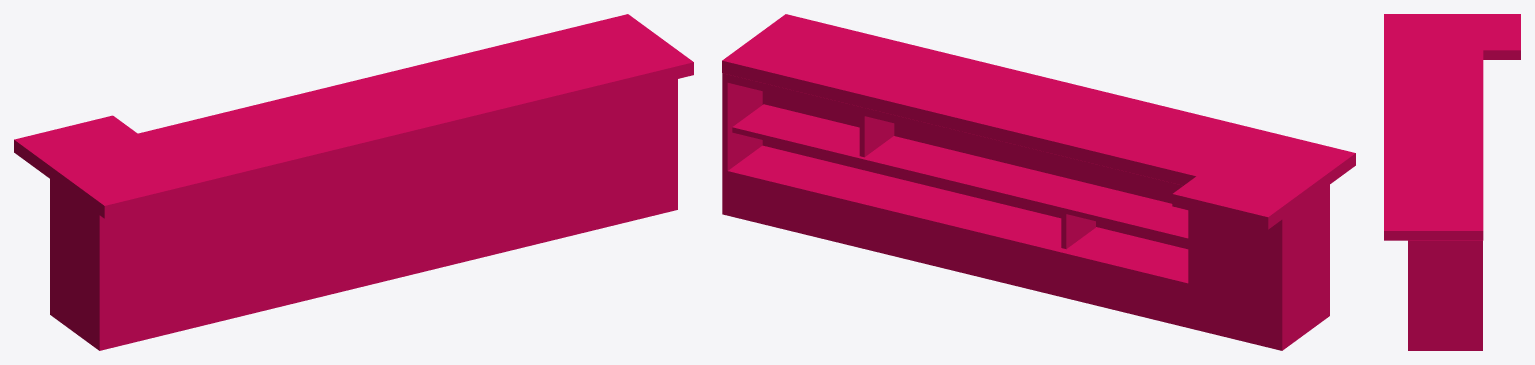
Rendered from Shop_Counter_02_Lod0.fbx.
The picture shows the model from 3 angles, left to right: view 1: azimuth 30°, elevation 25°; view 2: azimuth 150°, elevation 25°; view 3: azimuth 270°, elevation 25°; orthographic projection. The views are drawn at different scales.
Parts seen in each view (by area): view 1: Shop_Counter_02_Lod0; view 2: Shop_Counter_02_Lod0; view 3: Shop_Counter_02_Lod0.
Boxes of the visible parts, x1,y1,x2,y2 form: Shop_Counter_02_Lod0: (14,14,693,350); Shop_Counter_02_Lod0: (722,14,1355,350); Shop_Counter_02_Lod0: (1384,14,1520,350).
Bounding box in the file's own units: 334 × 86.36 × 89.12.
